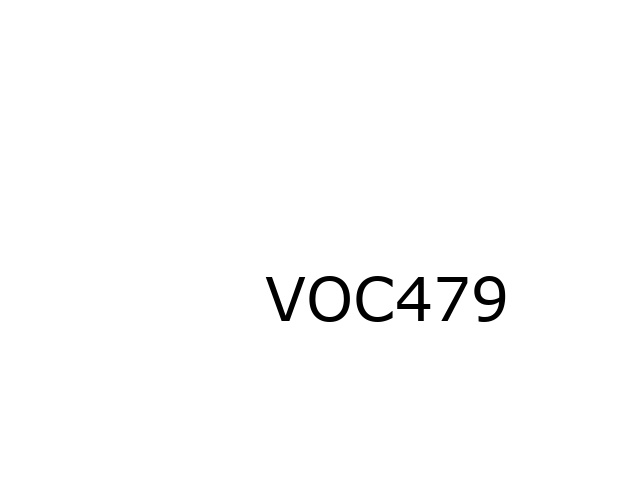OCR_AREA: (261, 272, 513, 326)
